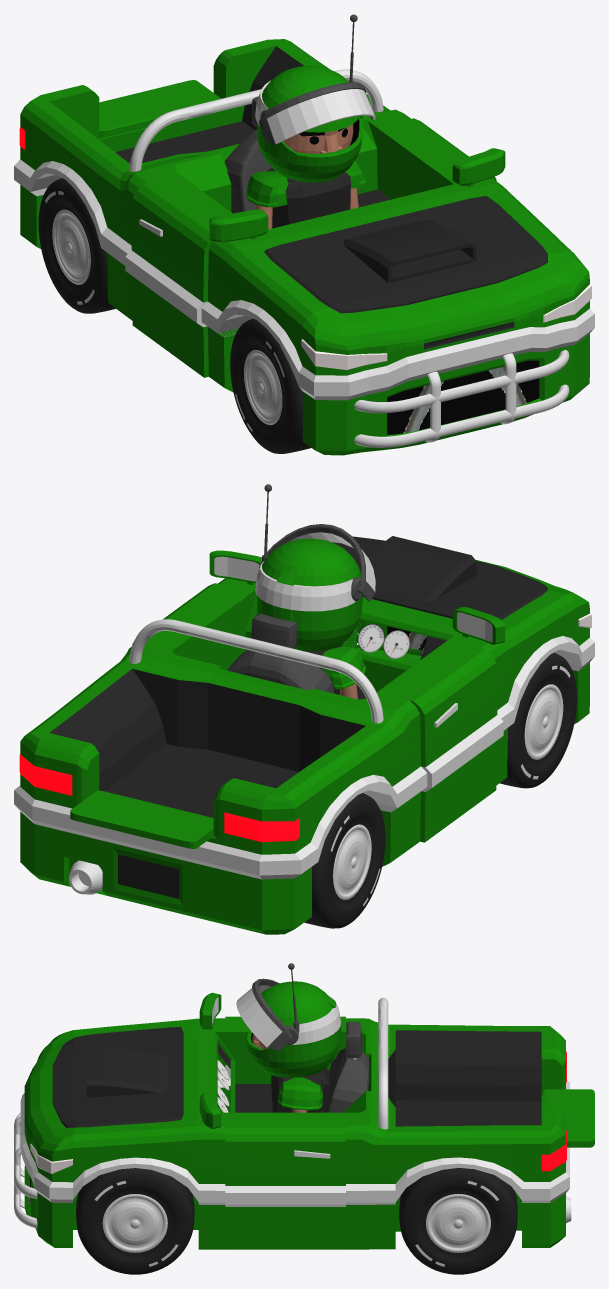
File: Carlitos Modelo 2.fbx
3 renders of one model, top to bottom at view 1: azimuth 30°, elevation 25°; view 2: azimuth 150°, elevation 25°; view 3: azimuth 270°, elevation 25°, orthographic. The views are drawn at different scales.
Visible parts, largest first — view 1: Coche, WFR, WRR, Casco, Cuerpo Carlitos, Visor, Cabeza Carlitos; view 2: Coche, Casco, WRR, WFR, Visor, Cuerpo Carlitos; view 3: Coche, WRL, WFL, Casco, Cuerpo Carlitos, Visor.
Boxes of the visible parts, x1=… form: Coche: x1=14, y1=39, x2=594, y2=455; WFR: x1=230, y1=318, x2=310, y2=453; WRR: x1=38, y1=178, x2=115, y2=313; Casco: x1=255, y1=14, x2=362, y2=182; Cuerpo Carlitos: x1=245, y1=160, x2=366, y2=229; Visor: x1=259, y1=82, x2=375, y2=144; Cabeza Carlitos: x1=283, y1=124, x2=353, y2=153; Coche: x1=14, y1=536, x2=594, y2=934; Casco: x1=255, y1=484, x2=362, y2=651; WRR: x1=304, y1=793, x2=385, y2=928; WFR: x1=500, y1=652, x2=576, y2=788; Visor: x1=259, y1=524, x2=375, y2=601; Cuerpo Carlitos: x1=305, y1=645, x2=365, y2=699; Coche: x1=14, y1=992, x2=594, y2=1249; WRL: x1=399, y1=1168, x2=517, y2=1274; WFL: x1=76, y1=1168, x2=194, y2=1274; Casco: x1=245, y1=963, x2=341, y2=1077; Cuerpo Carlitos: x1=271, y1=1068, x2=329, y2=1112; Visor: x1=236, y1=978, x2=292, y2=1049.
Size of the model in its own units: 119 by 120 by 231.
14 materials, 2 textured.
